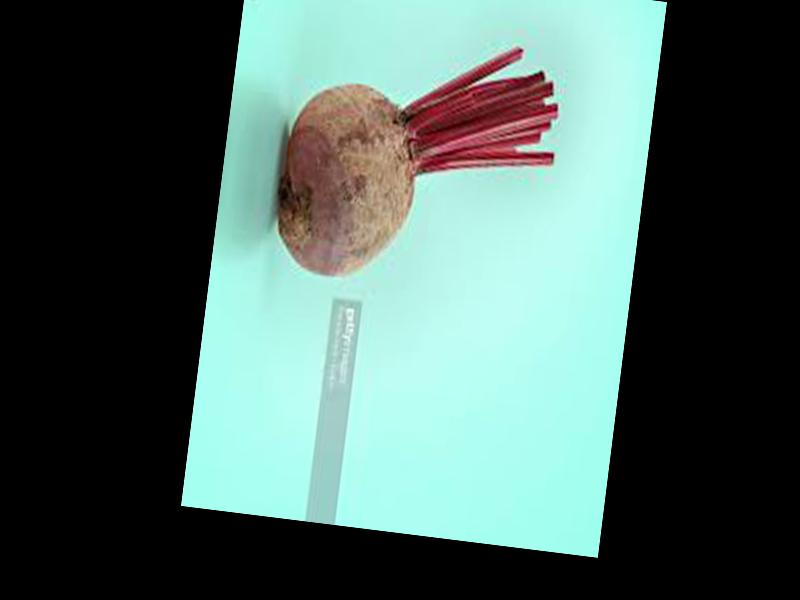Beet: (268, 21, 567, 302)
